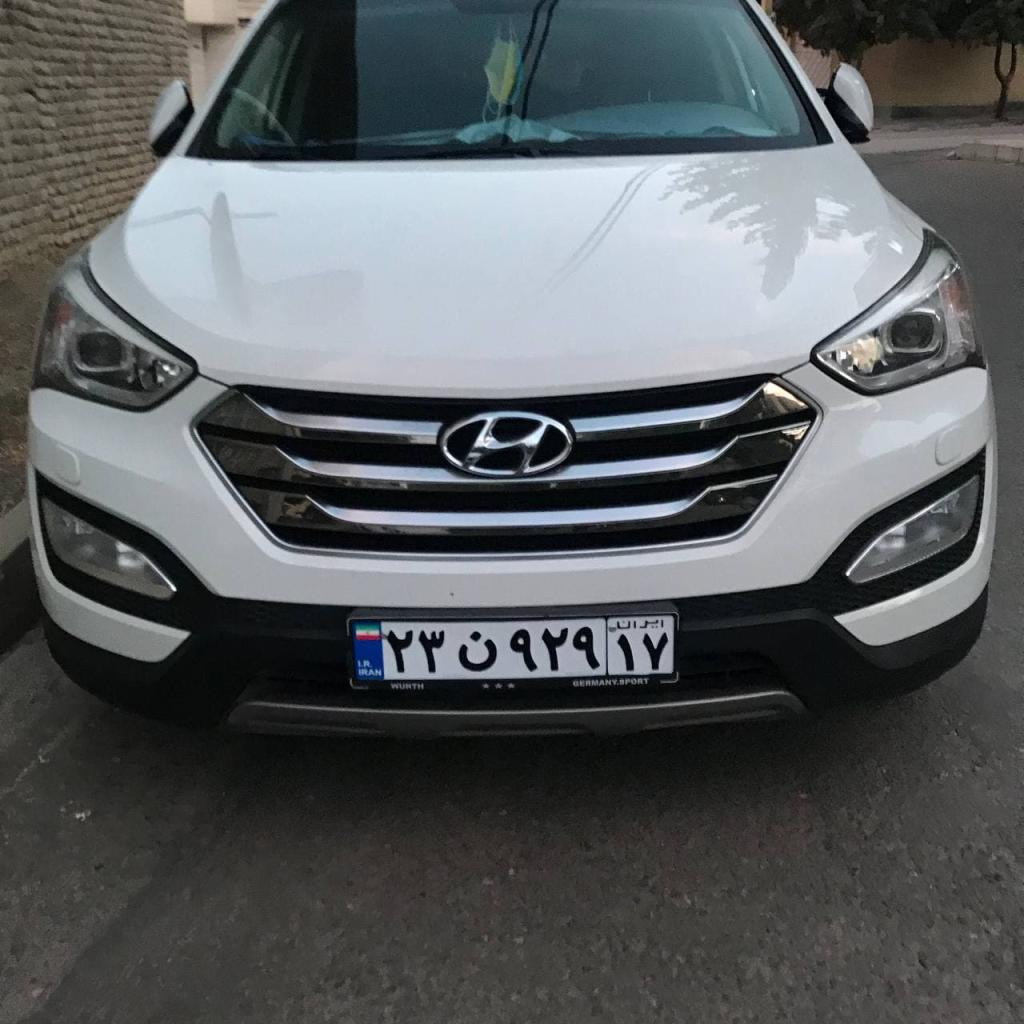Plates: (352, 615, 673, 681)
